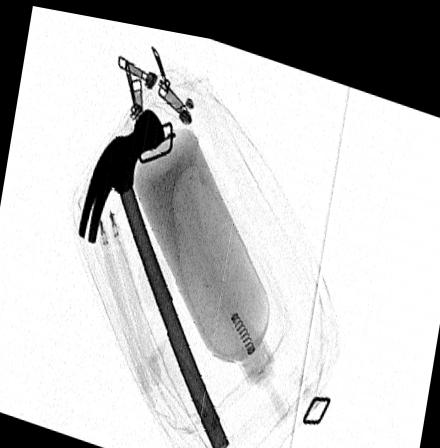Hammer: (77, 101, 229, 445)
